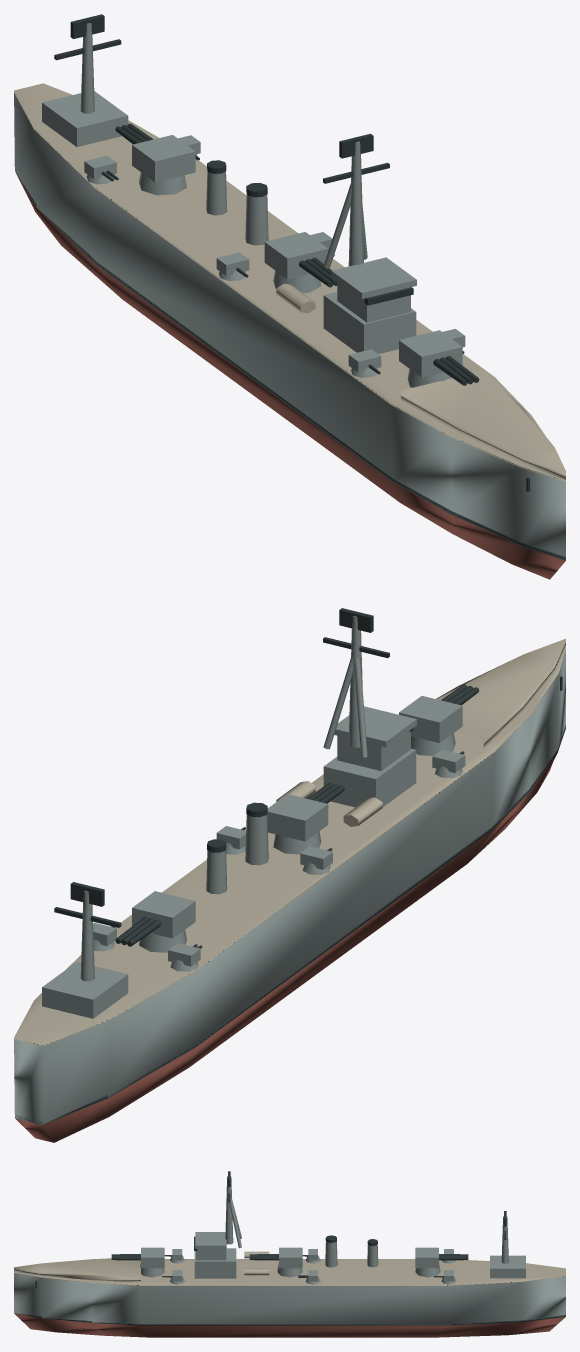
Rendered from cleveland.glb.
3 renders of one model, top to bottom at view 1: azimuth 30°, elevation 25°; view 2: azimuth 150°, elevation 25°; view 3: azimuth 270°, elevation 25°, orthographic. The views are drawn at different scales.
Visible parts, largest first — view 1: Freeboard, Deck, UnderwaterHull, Forecastle, Bridge-Foundation, AftDeckhouse, Waterline, Main-Casing-2, Bridge-Roof, Main-Casing-0, Main-Casing-1, Foremast-Pole (+5 smaller); view 2: Freeboard, Deck, UnderwaterHull, Forecastle, Bridge-Foundation, AftDeckhouse, Main-Casing-1, Waterline, Main-Casing-0, Main-Casing-2, Bridge-Roof, Bridge-Command (+9 smaller); view 3: Freeboard, Deck, UnderwaterHull, Forecastle, Waterline, Bridge-Foundation, AftDeckhouse, Bridge-Roof, Main-Casing-0, Main-Casing-1, Main-Casing-2, Foremast-Pole (+4 smaller).
Part boxes in pixels (x1,y1,x2,y2): Freeboard: (14,93,565,559); Deck: (14,83,565,481); UnderwaterHull: (16,173,565,579); Forecastle: (401,370,565,479); Bridge-Foundation: (323,292,416,353); AftDeckhouse: (42,91,128,146); Waterline: (16,173,565,560); Main-Casing-2: (132,135,195,182); Bridge-Roof: (331,257,416,298); Main-Casing-0: (399,330,462,377); Main-Casing-1: (264,232,328,279); Foremast-Pole: (348,141,363,266); Freeboard: (14,650,565,1124); Deck: (14,648,565,1046); UnderwaterHull: (15,753,557,1142); Forecastle: (436,638,565,747); Bridge-Foundation: (323,748,416,807); AftDeckhouse: (42,962,128,1018); Main-Casing-1: (267,794,328,841); Waterline: (15,725,565,1124); Main-Casing-0: (399,696,462,743); Main-Casing-2: (132,891,195,938); Bridge-Roof: (334,706,416,747); Bridge-Command: (337,731,410,770); Freeboard: (14,1273,565,1323); Deck: (14,1259,565,1285); UnderwaterHull: (14,1313,565,1337); Forecastle: (14,1258,140,1282); Waterline: (16,1313,565,1325); Bridge-Foundation: (194,1248,236,1278); AftDeckhouse: (490,1255,525,1278); Bridge-Roof: (195,1232,226,1248); Main-Casing-0: (141,1247,164,1268); Main-Casing-1: (279,1247,302,1268); Main-Casing-2: (415,1247,438,1268); Foremast-Pole: (225,1176,233,1244).
Bounding box in the file's own units: 18.72 × 49.23 × 160.
